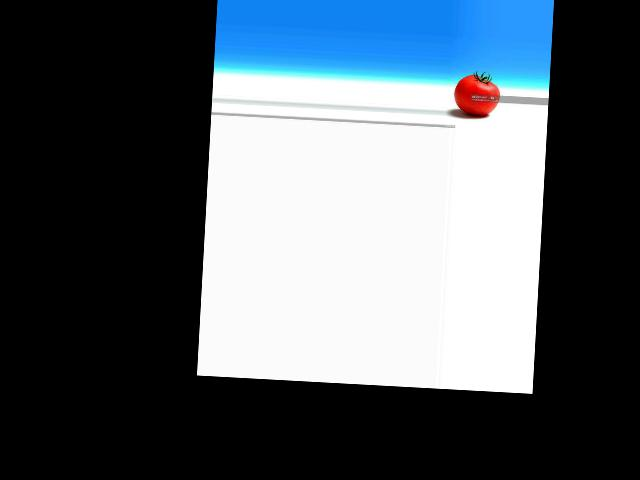tomato: (454, 74, 501, 115)
